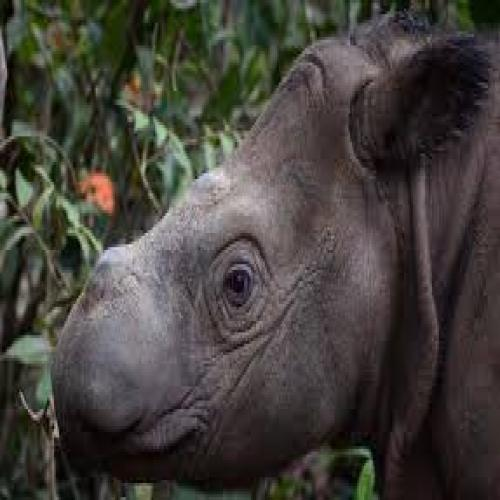rhino-endangered: (51, 17, 500, 499)
